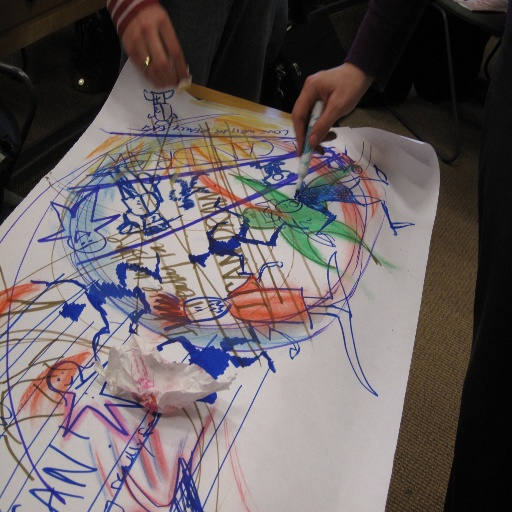hand: (288, 58, 370, 159), (120, 3, 189, 89)
